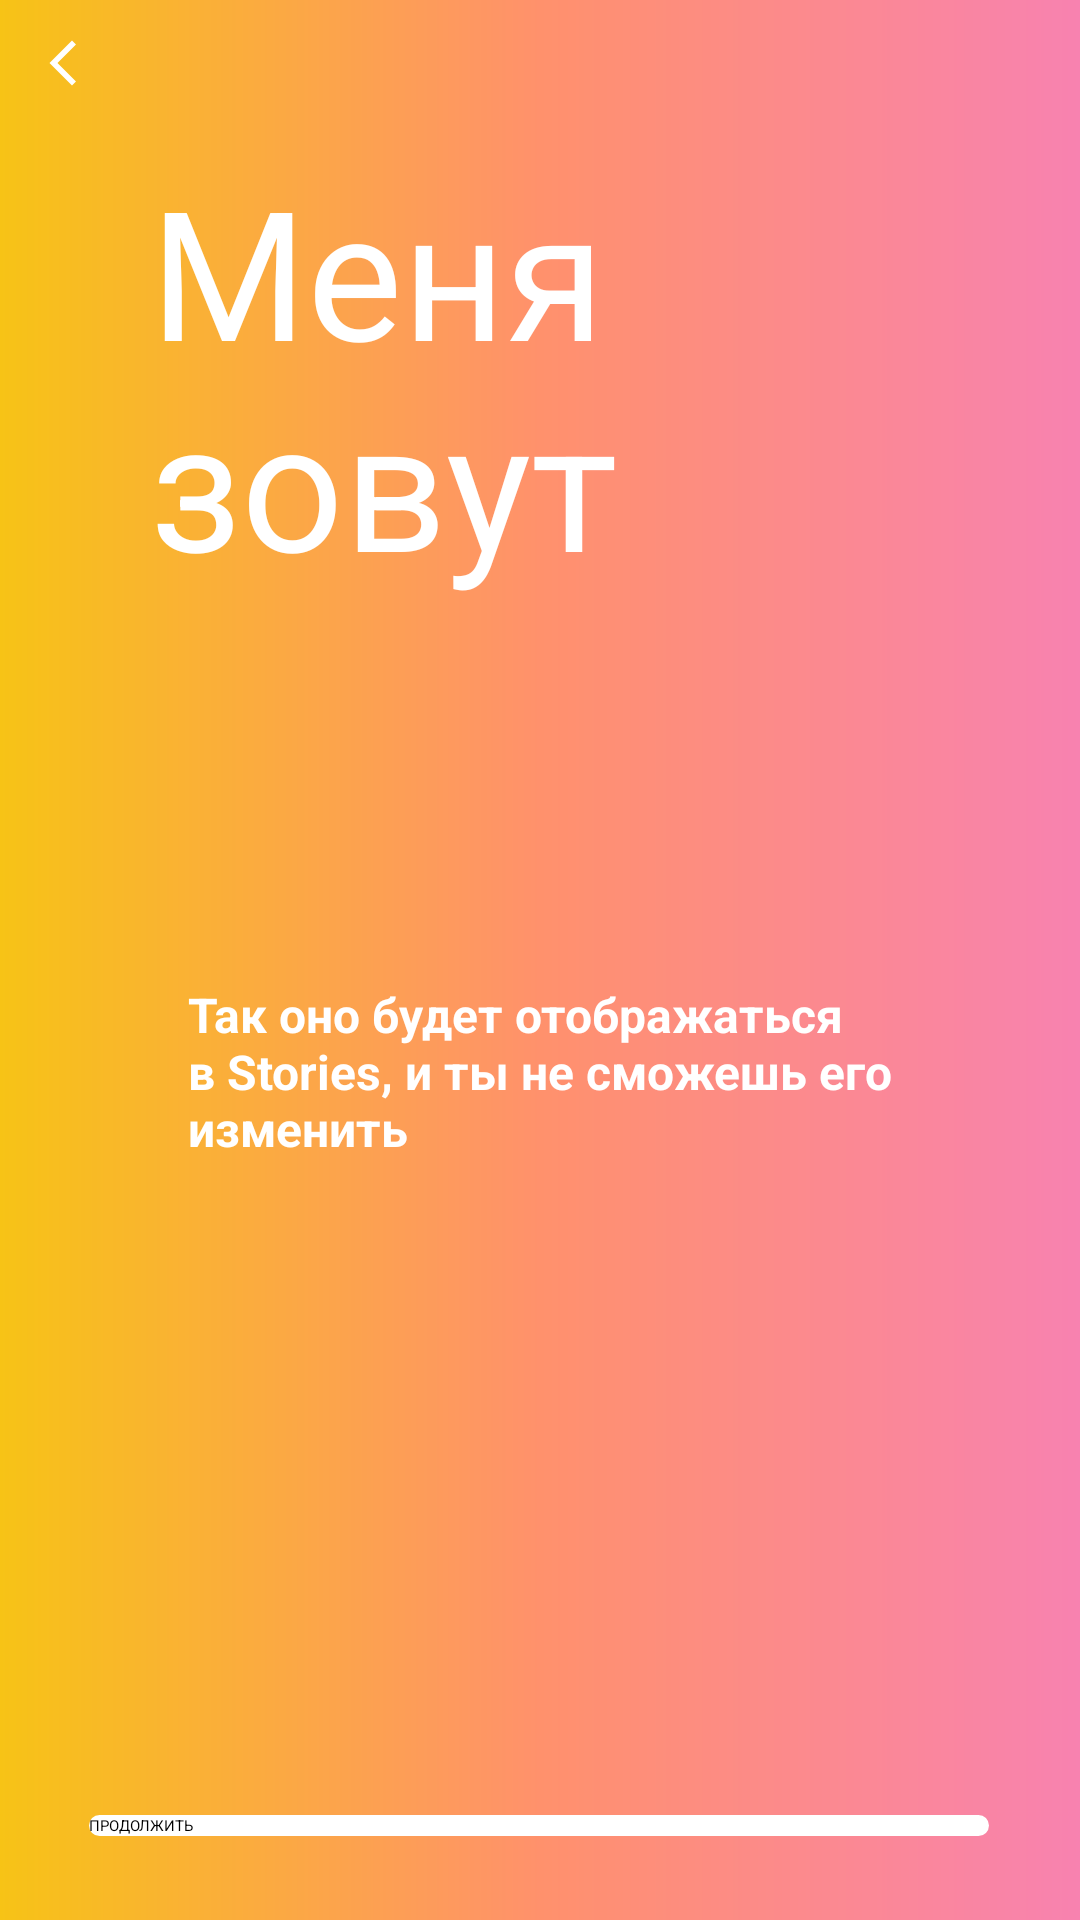

Icon bounding boxes for this 1080w x 1920h phone screenshot, format bbox(x1, y1, x2, y2):
back: bbox(50, 40, 76, 86)
